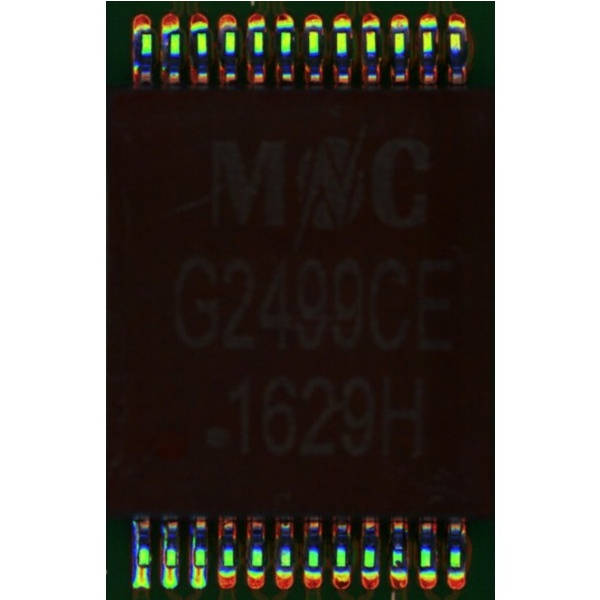Bad_podu: (193, 560, 201, 575), (164, 560, 172, 575), (136, 560, 144, 575)
Bad_qiaojiao: (160, 524, 165, 565), (133, 522, 138, 563), (190, 530, 195, 564)
